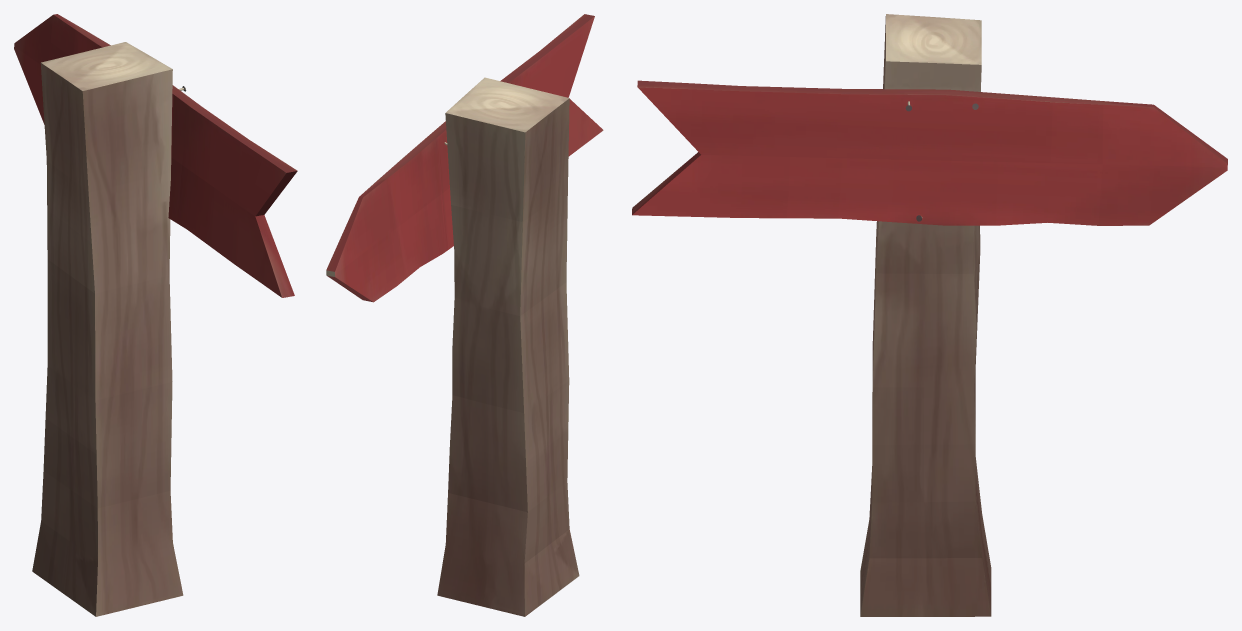
Rendered from stylized-sign-8bdde6.glb.
3 renders of one model, left to right at view 1: azimuth 30°, elevation 25°; view 2: azimuth 150°, elevation 25°; view 3: azimuth 270°, elevation 25°, orthographic. The views are drawn at different scales.
Parts seen in each view (by area): view 1: Cube_Material.001_0; view 2: Cube_Material.001_0; view 3: Cube_Material.001_0.
Part boxes in pixels (<box>): Cube_Material.001_0: <box>14,14,297,616</box>; Cube_Material.001_0: <box>326,14,603,616</box>; Cube_Material.001_0: <box>632,14,1227,616</box>.
Size of the model in its own units: 142 by 615 by 597.
Materials: 1 (1 with a texture image).
